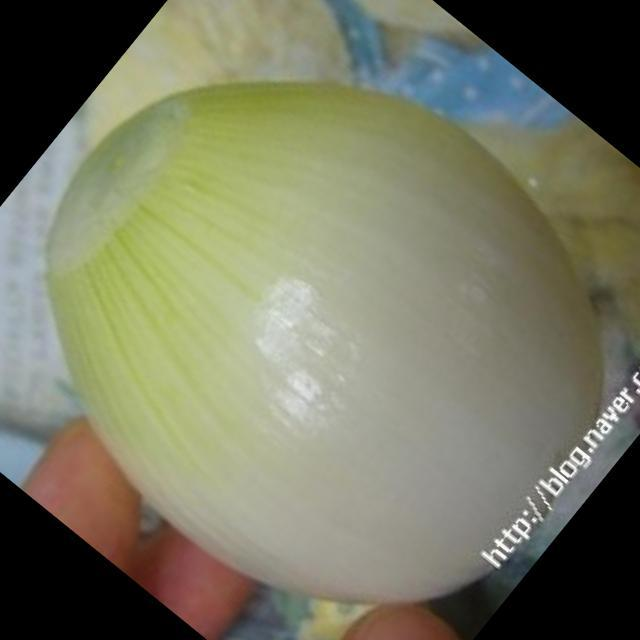Onion: (52, 81, 601, 593)
